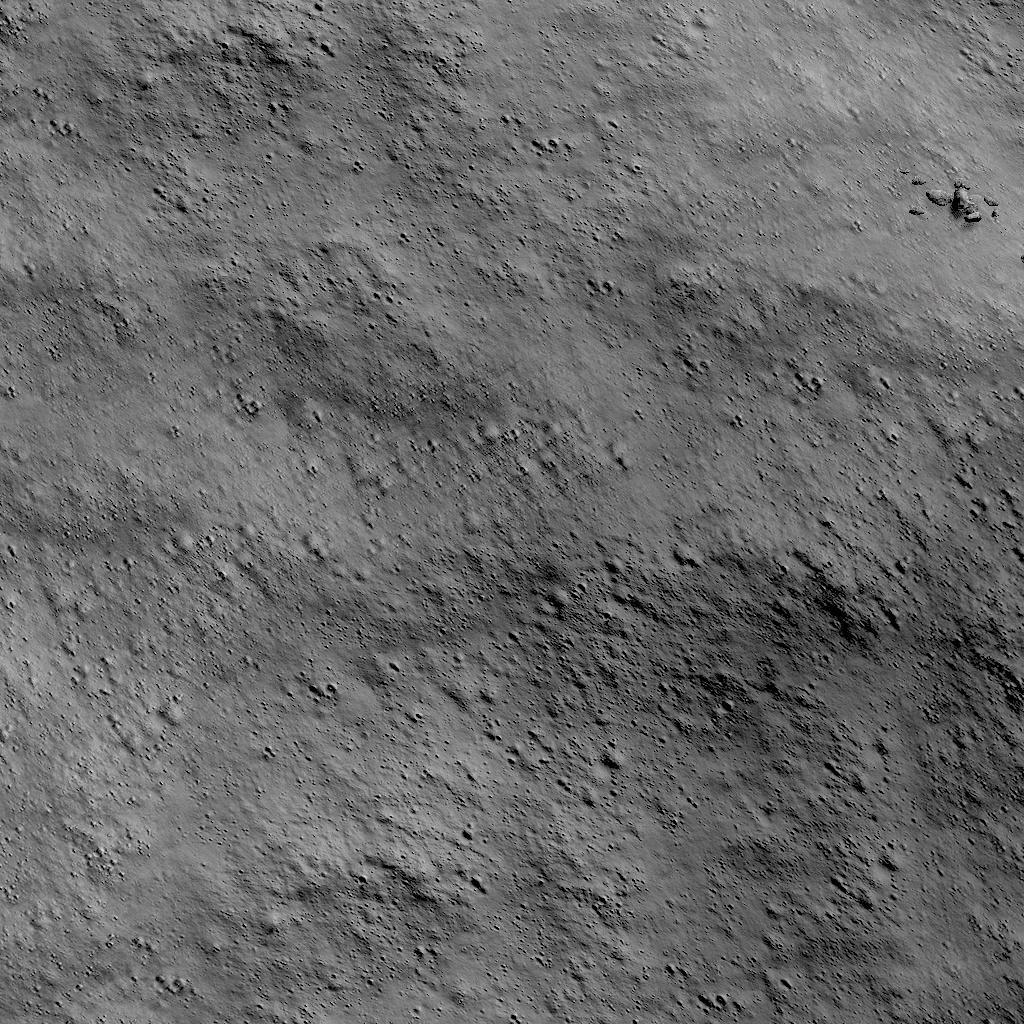Plan surface: (0, 248, 1024, 1024), (0, 0, 893, 233)
